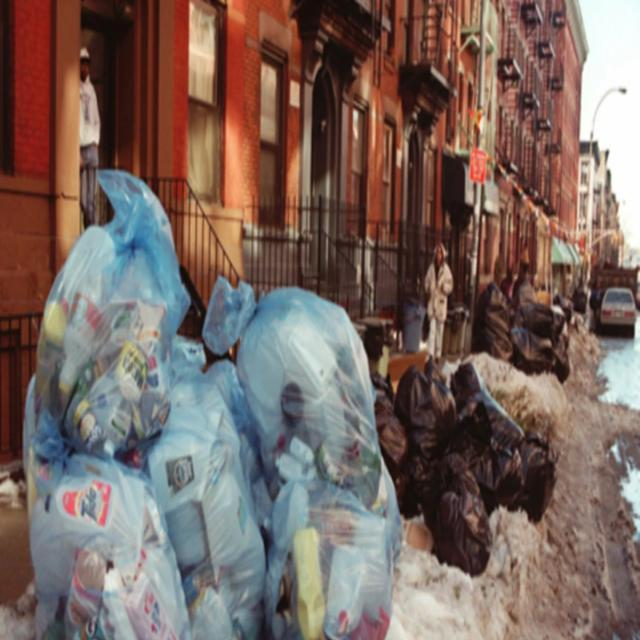garbage: (19, 162, 404, 640), (369, 350, 555, 580), (480, 268, 571, 384)
